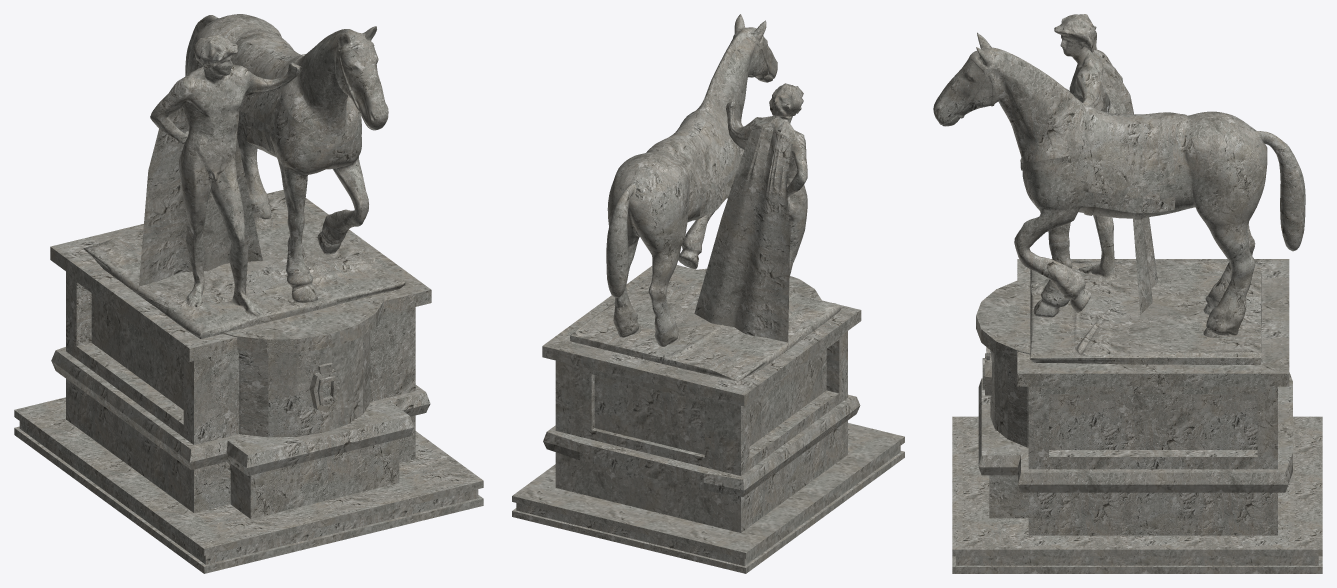
File: fbxStatue.fbx
3 views of the same model, side by side, from view 1: azimuth 30°, elevation 25°; view 2: azimuth 150°, elevation 25°; view 3: azimuth 270°, elevation 25° (orthographic). The views are drawn at different scales.
Parts seen in each view (by area): view 1: statue, floor; view 2: statue, floor; view 3: statue, floor.
Boxes of the visible parts, left/top/right/bottom form: statue: left=50, top=14, right=431, bottom=518; floor: left=14, top=397, right=483, bottom=573; statue: left=542, top=14, right=861, bottom=532; floor: left=512, top=423, right=904, bottom=573; statue: left=933, top=14, right=1305, bottom=535; floor: left=952, top=416, right=1322, bottom=573.
Size of the model in its own units: 2.47 by 4.16 by 3.05.
1 material, 1 textured.
